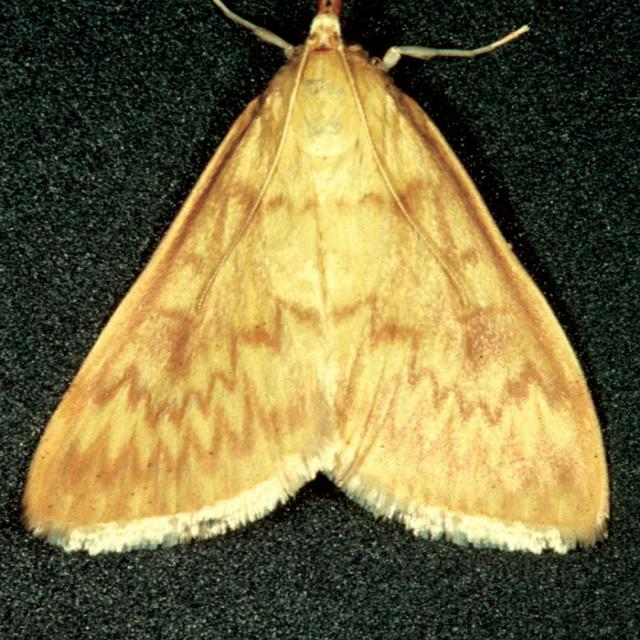cornborer-Adult-: (20, 3, 622, 566)
